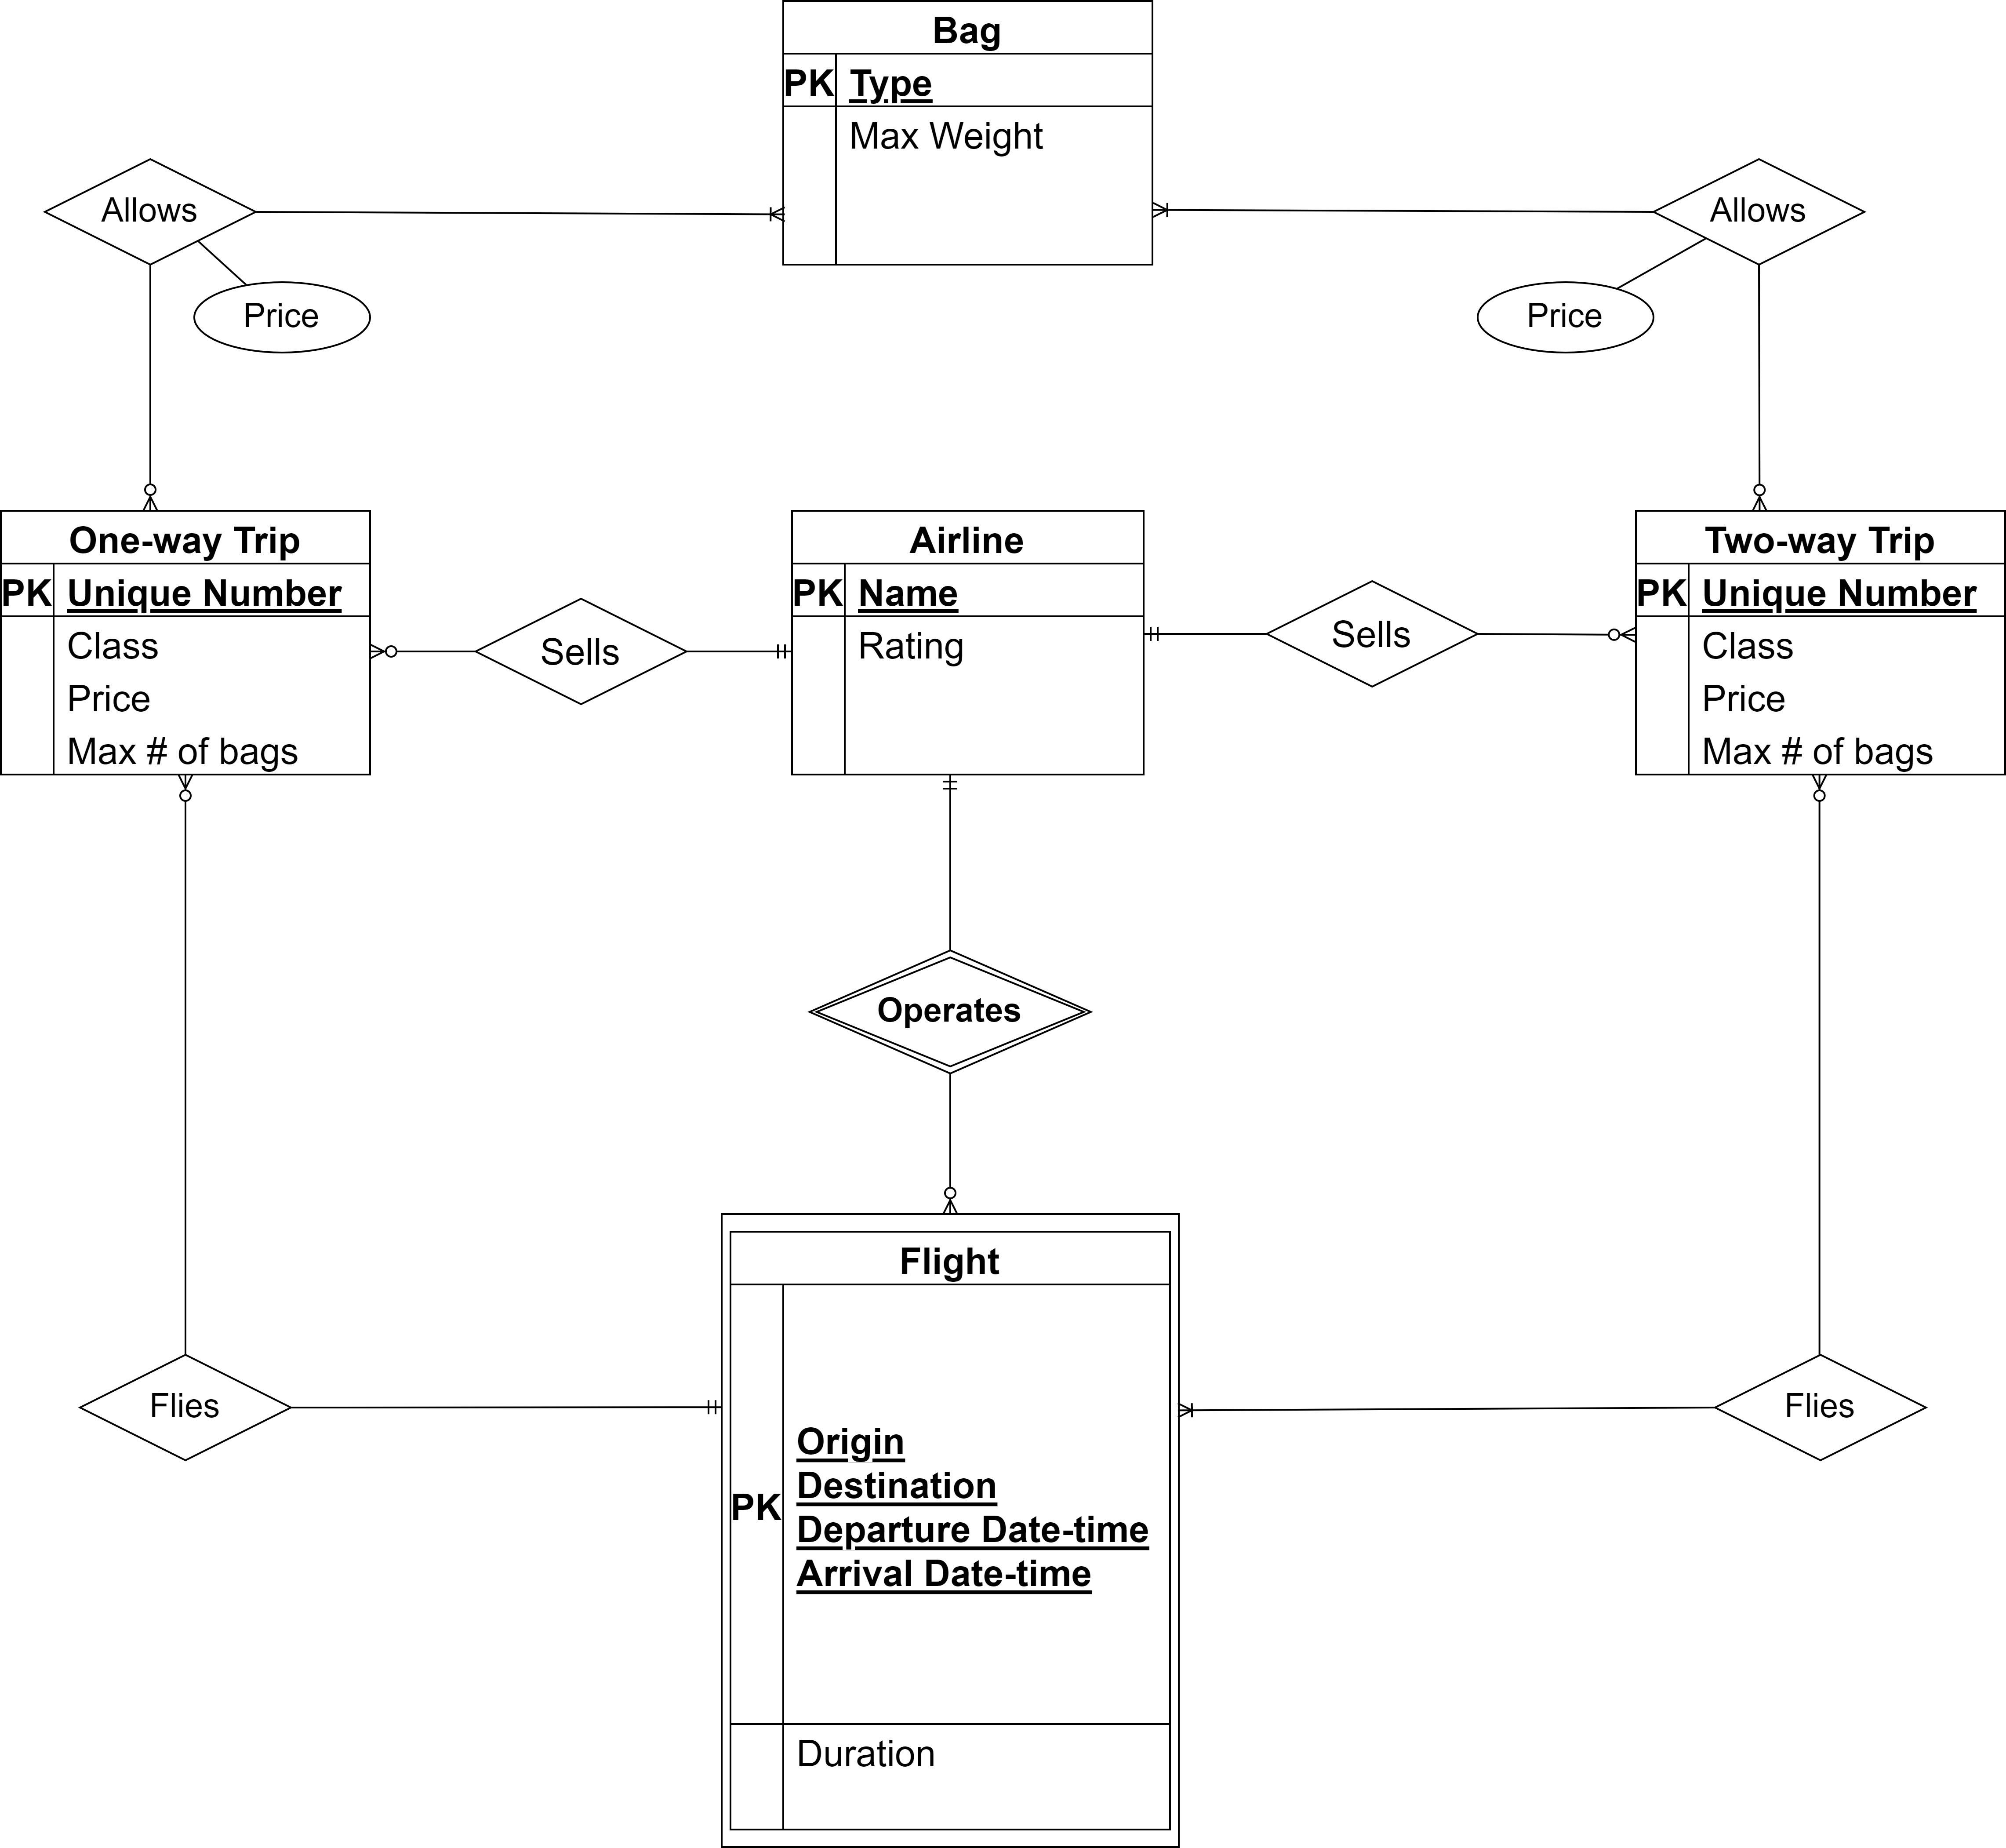attribute: (190, 274, 370, 355), (1473, 274, 1651, 353)
entity: (776, 0, 1162, 273), (0, 504, 372, 780), (1634, 507, 2006, 780), (788, 504, 1150, 780)
relationship: (77, 1351, 294, 1463), (1263, 577, 1477, 687), (38, 157, 257, 264), (479, 594, 688, 703), (1719, 1355, 1922, 1460), (1657, 159, 1870, 259)
weakentity: (709, 1208, 1185, 1848)
weakrelationship: (806, 944, 1085, 1073)
